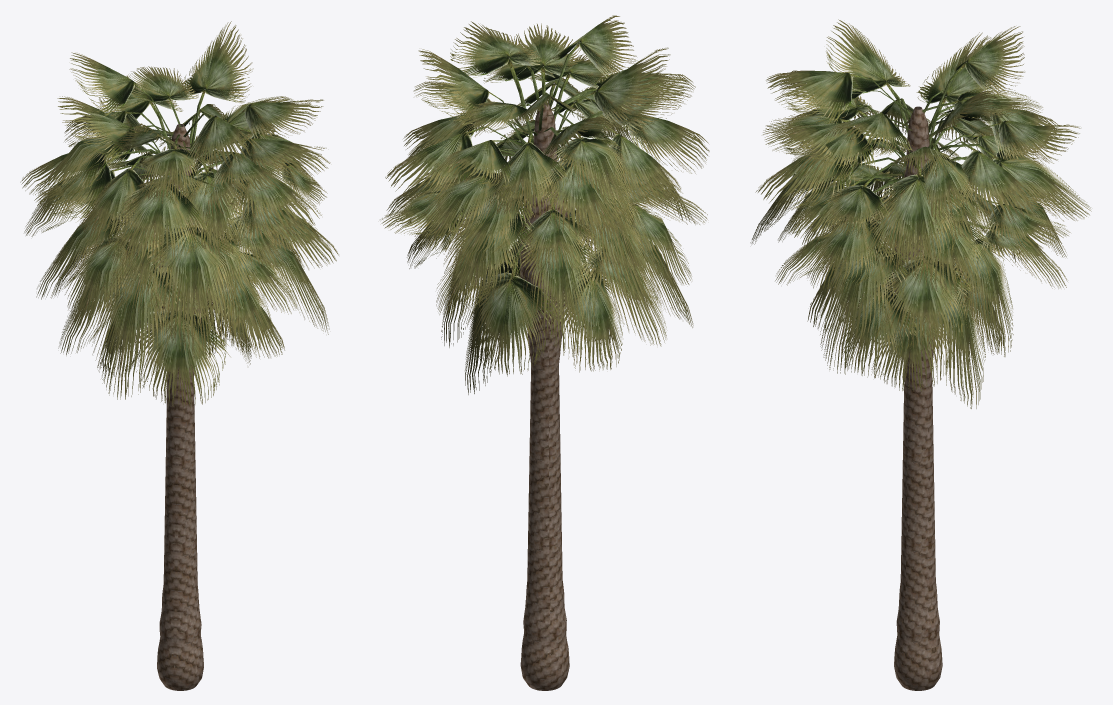
File: prop_palmera.glb
The picture shows the model from 3 angles, left to right: view 1: azimuth 30°, elevation 25°; view 2: azimuth 150°, elevation 25°; view 3: azimuth 270°, elevation 25°; orthographic projection. The views are drawn at different scales.
Visible parts, largest first — view 1: PalmLeaf_PalmLeaf_0, PalmBark_PalmBark_0; view 2: PalmLeaf_PalmLeaf_0, PalmBark_PalmBark_0; view 3: PalmLeaf_PalmLeaf_0, PalmBark_PalmBark_0.
Boxes of the visible parts, left/top/right/bottom form: PalmLeaf_PalmLeaf_0: left=20, top=21, right=338, bottom=407; PalmBark_PalmBark_0: left=157, top=124, right=203, bottom=690; PalmLeaf_PalmLeaf_0: left=380, top=15, right=709, bottom=394; PalmBark_PalmBark_0: left=520, top=102, right=569, bottom=690; PalmLeaf_PalmLeaf_0: left=750, top=19, right=1091, bottom=408; PalmBark_PalmBark_0: left=893, top=106, right=942, bottom=690.
Size of the model in its own units: 4.31 by 9.27 by 4.64.
2 materials, 2 textured.
